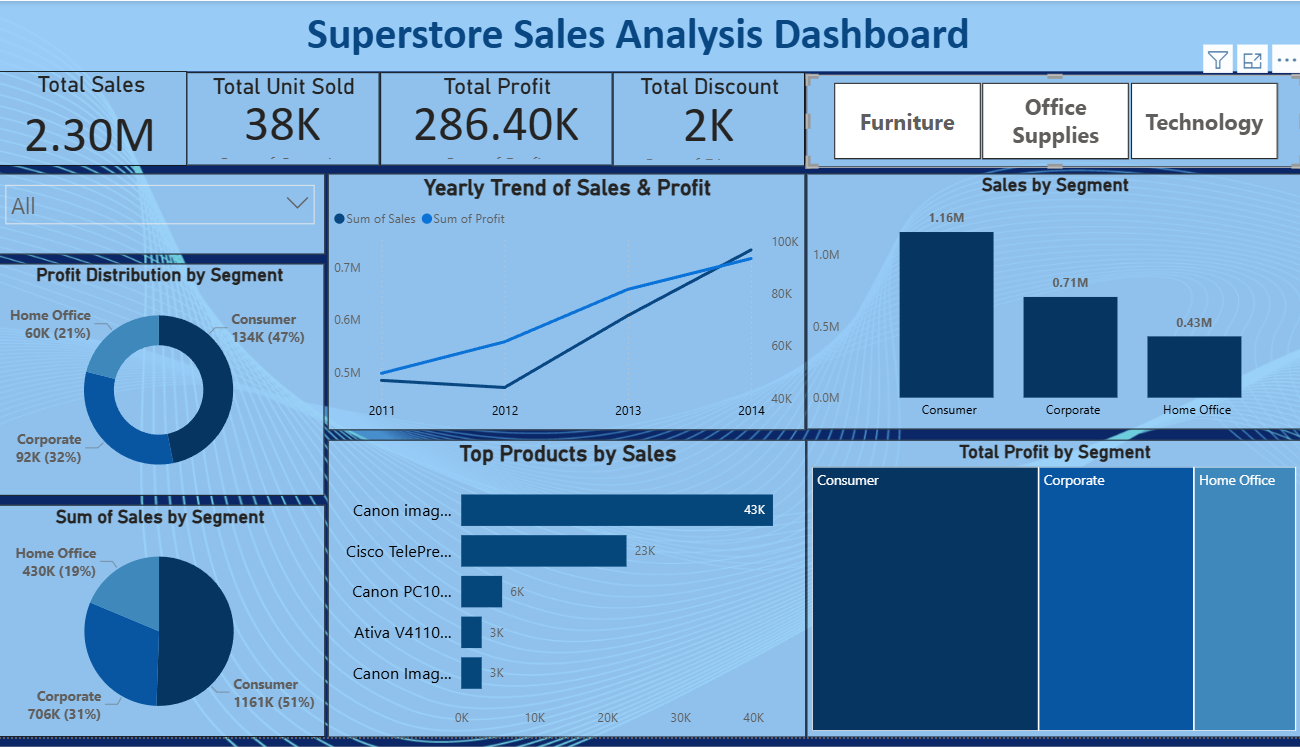

This screenshot's page, from the dashboard's own definition file:
{"tool":"powerbi","page":{"name":"Page 1","canvas":[1280,720],"ordinal":0},"visuals":[{"type":"card","title":"Total  Profit ","fields":{"Values":["Sum(Orders.Profit)"]},"box":[377.5,70,227.5,91.2],"z":0},{"type":"textbox","box":[0,0,1280,68.8],"z":1000},{"type":"card","title":"Total Discount ","fields":{"Values":["Sum(Orders.Discount)"]},"box":[605.3,69.7,188.3,91.7],"z":2000},{"type":"lineChart","title":"Yearly Trend of Sales & Profit","fields":{"Category":["Orders.Order Date.Variation.Date Hierarchy.Year"],"Y":["Sum(Orders.Sales)"],"Y2":["Sum(Orders.Profit)"]},"box":[326.2,168.8,467.5,251.2],"z":3000},{"type":"barChart","title":"Top Products by Sales","fields":{"Category":["Orders.Product Name"],"Y":["Sum(Orders.Sales)"]},"box":[326.5,429.2,468.3,291],"z":4000},{"type":"treemap","title":"Total Profit by Segment","fields":{"Group":["Orders.Segment"],"Values":["Sum(Orders.Profit)"]},"box":[795,428.8,485,291.2],"z":5000},{"type":"pieChart","fields":{"Category":["Orders.Segment"],"Y":["Sum(Orders.Sales)"]},"box":[0,492.5,323.8,227.5],"z":6000},{"type":"donutChart","title":"Profit Distribution by Segment","fields":{"Category":["Orders.Segment"],"Y":["Sum(Orders.Profit)"]},"box":[0,256.8,322.8,227.4],"z":7000},{"type":"columnChart","title":"Sales by Segment","fields":{"Category":["Orders.Segment"],"Y":["Sum(Orders.Sales)"]},"box":[794.8,168.8,485.5,250.7],"z":8000},{"type":"slicer","fields":{"Values":["Orders.Category"]},"box":[794.8,72.1,485.5,90.5],"z":9000},{"type":"card","title":"Total Sales","fields":{"Values":["Sum(Orders.Sales)"]},"box":[0,68.8,188.8,92.5],"z":10000},{"type":"card","title":"Total Unit Sold","fields":{"Values":["Sum(Orders.Quantity)"]},"box":[188.8,70,188.8,91.2],"z":11000},{"type":"slicer","fields":{"Values":["Orders.Region"]},"box":[0,168.8,324.1,79.5],"z":12000}]}

Visuals, with their boxes in screenshot pixels (x1, y1, x2, y2), scaled from the page's 1280x720 canvas onto the 1300x747 screenshot:
"Total  Profit " card: x1=383 y1=73 x2=614 y2=167
textbox: x1=0 y1=0 x2=1299 y2=71
"Total Discount " card: x1=615 y1=72 x2=806 y2=167
"Yearly Trend of Sales & Profit" lineChart: x1=331 y1=175 x2=806 y2=436
"Top Products by Sales" barChart: x1=332 y1=445 x2=807 y2=746
"Total Profit by Segment" treemap: x1=807 y1=445 x2=1299 y2=746
pieChart - Orders.Segment x Sum(Orders.Sales): x1=0 y1=511 x2=329 y2=746
"Profit Distribution by Segment" donutChart: x1=0 y1=266 x2=328 y2=502
"Sales by Segment" columnChart: x1=807 y1=175 x2=1299 y2=435
slicer - Orders.Category: x1=807 y1=75 x2=1299 y2=169
"Total Sales" card: x1=0 y1=71 x2=192 y2=167
"Total Unit Sold" card: x1=192 y1=73 x2=384 y2=167
slicer - Orders.Region: x1=0 y1=175 x2=329 y2=258
